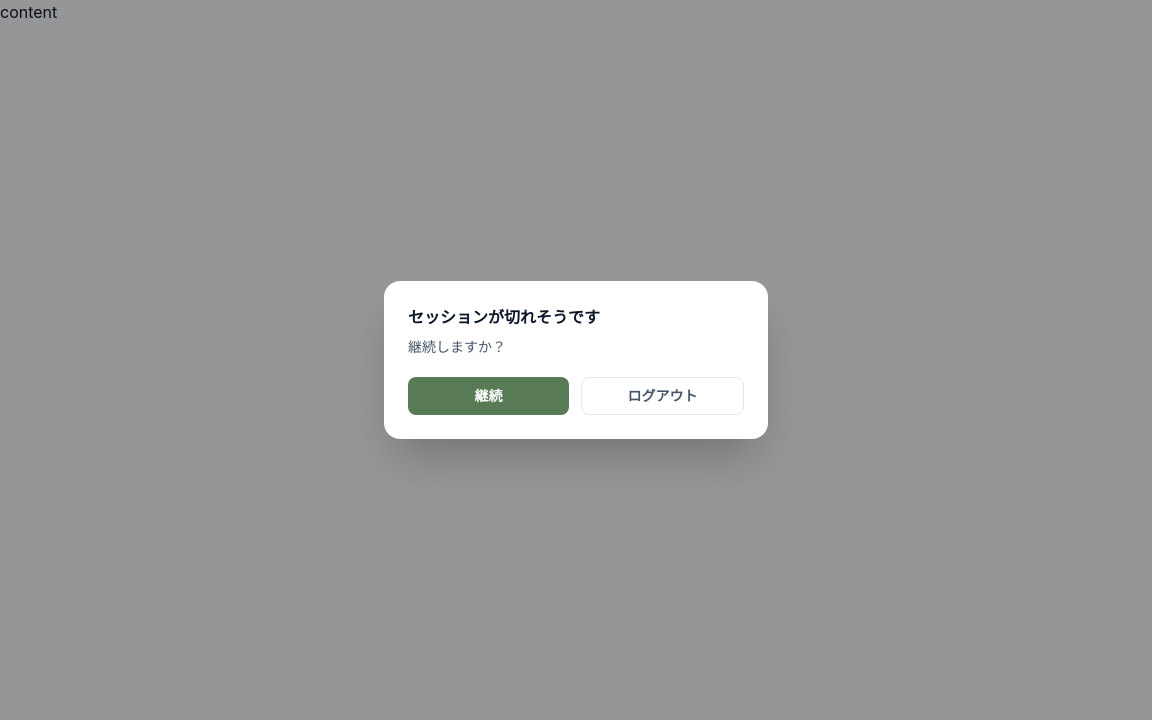
Test case: AuthGuard › dismisses warning and resets timer when continue is clicked
Click the button "継続" at (488, 396), box 408,377 -> 569,415
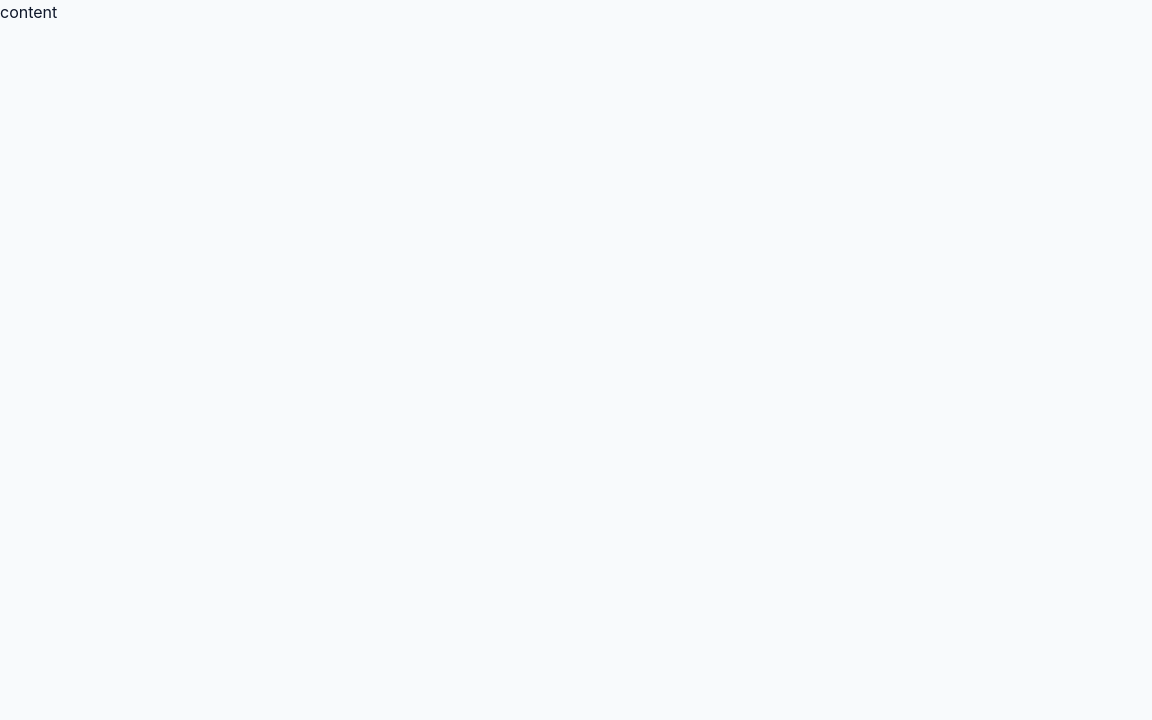
expect the dialog is gone: met
